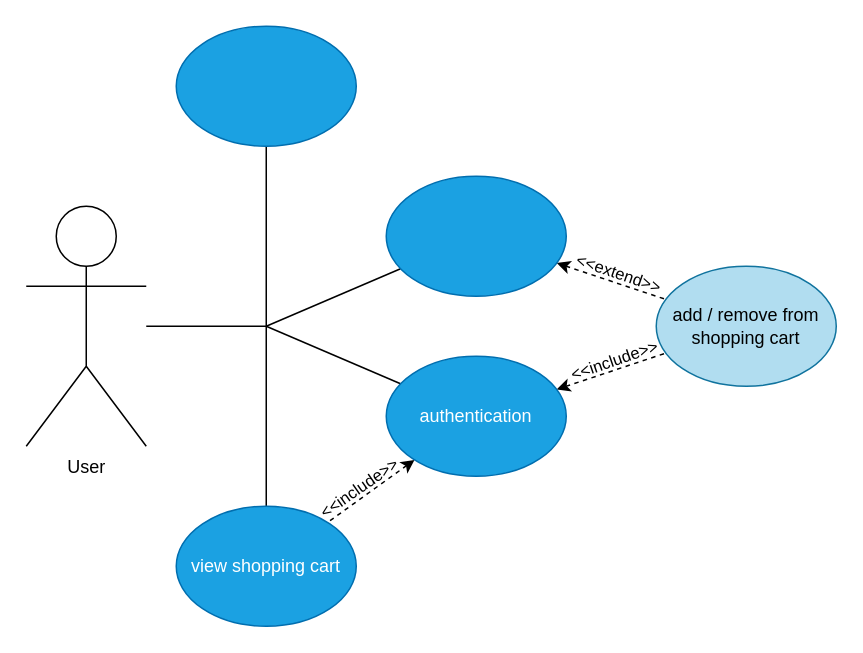
The diagram is 863 pixels wide and 653 high, and some of its shapes have lost their labels. Here are the shapes that lost their labels. From the top down, the centre of each, then its label:
the point at 265,85: view products
the point at 475,235: view single product
